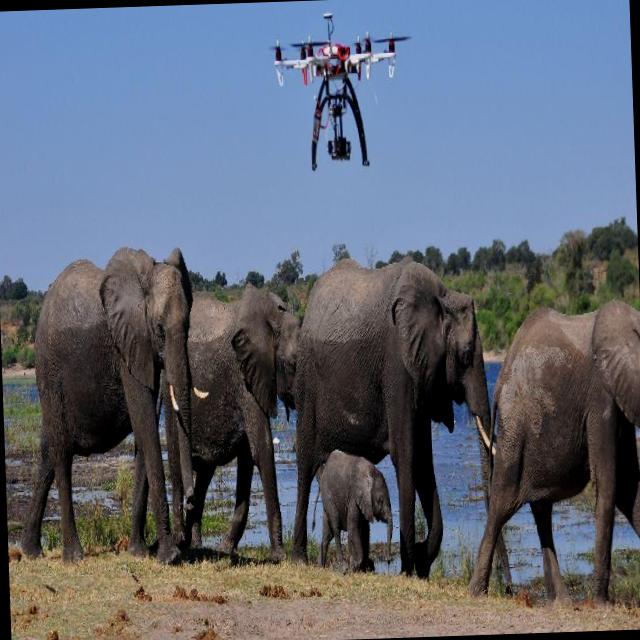drone: (266, 5, 418, 175)
